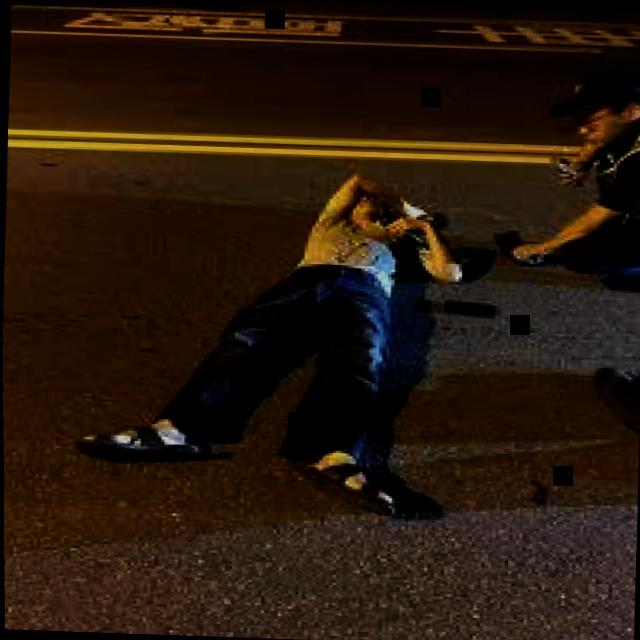Fall-Detected: (72, 136, 511, 514)
